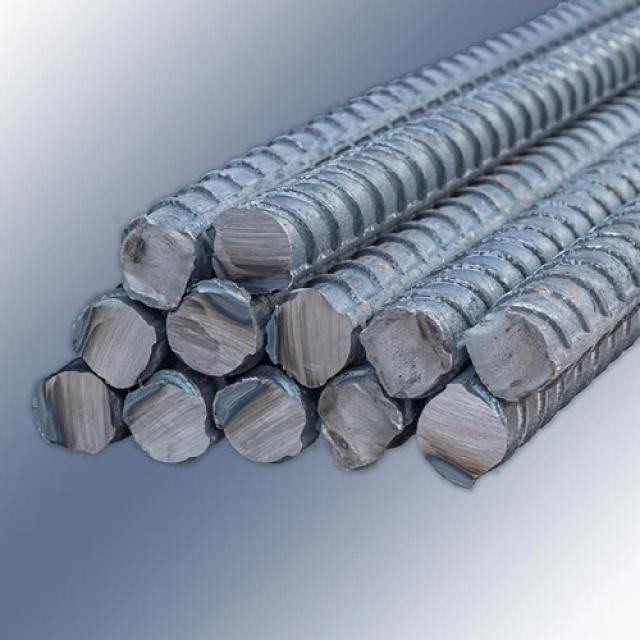Rebar: (203, 197, 317, 304), (462, 304, 566, 401), (413, 378, 509, 482), (158, 279, 252, 380), (312, 374, 408, 472), (114, 373, 211, 468), (105, 215, 201, 310), (353, 301, 449, 394), (221, 370, 311, 469), (26, 371, 125, 460), (264, 283, 351, 377), (79, 291, 160, 382)
